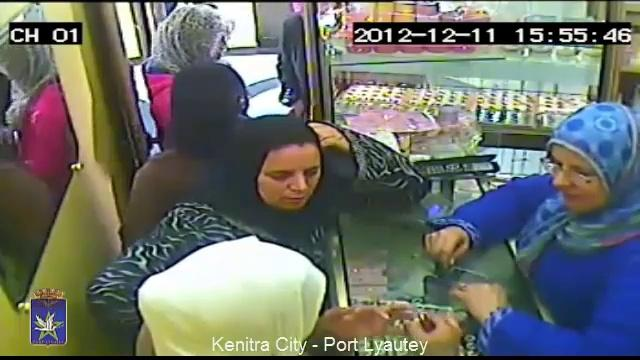Product: (399, 299, 423, 321)
Product-Picked: (133, 231, 462, 360)
Regular: (465, 86, 640, 360), (226, 107, 350, 223), (148, 44, 242, 151), (152, 0, 246, 63)
